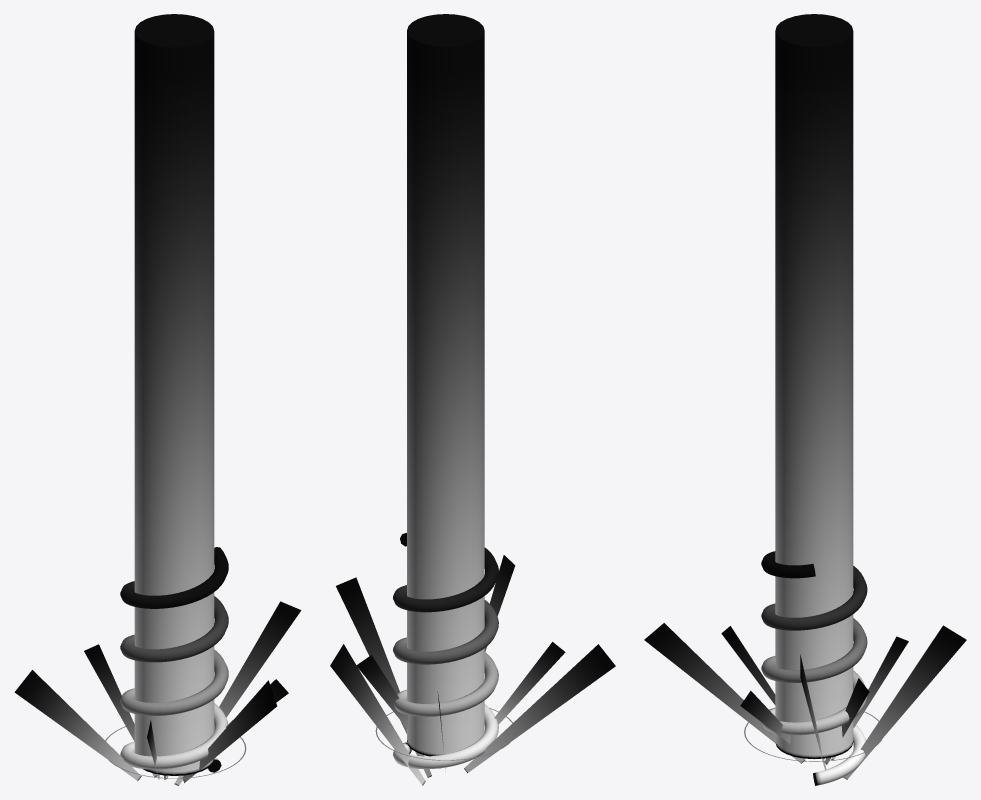
Rendered from RevelationEffect.fbx.
3 renders of one model, left to right at view 1: azimuth 30°, elevation 25°; view 2: azimuth 150°, elevation 25°; view 3: azimuth 270°, elevation 25°, orthographic. The views are drawn at different scales.
Parts seen in each view (by area): view 1: CentralRay, CrircularSpring, FloorRays, Plane002; view 2: CentralRay, FloorRays, CrircularSpring, Plane002; view 3: CentralRay, CrircularSpring, FloorRays, Plane002.
Part boxes in pixels (x1,y1,x2,y2): CentralRay: (134, 14, 214, 775); CrircularSpring: (120, 547, 228, 772); FloorRays: (14, 601, 301, 785); Plane002: (84, 644, 288, 779); CentralRay: (407, 14, 484, 756); FloorRays: (330, 555, 615, 785); CrircularSpring: (393, 533, 498, 769); Plane002: (356, 642, 565, 771); CentralRay: (775, 14, 853, 759); CrircularSpring: (761, 551, 867, 785); FloorRays: (644, 623, 966, 779); Plane002: (721, 626, 908, 764).
Bounding box in the file's own units: 2 × 5.08 × 1.99.
